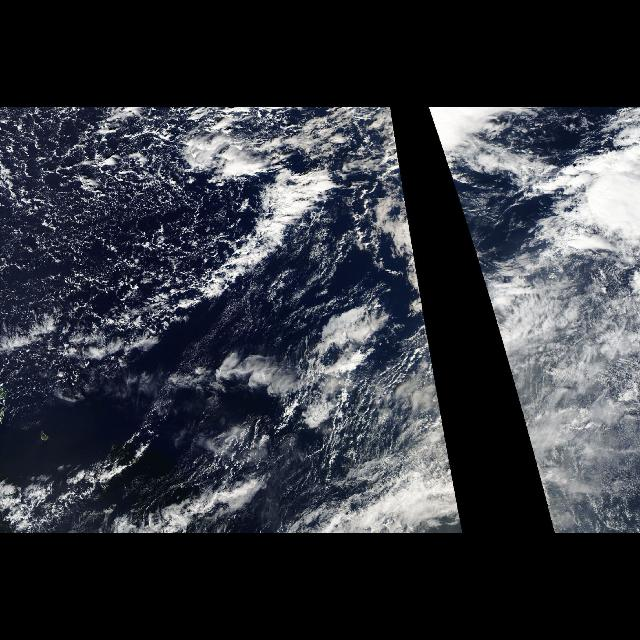Gravel: (0, 107, 328, 350)
Sugar: (176, 205, 377, 365)
